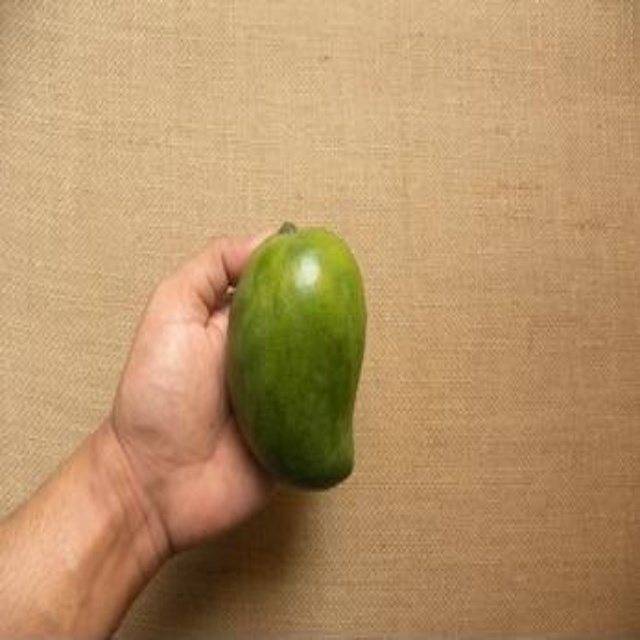mango: (218, 219, 377, 493)
